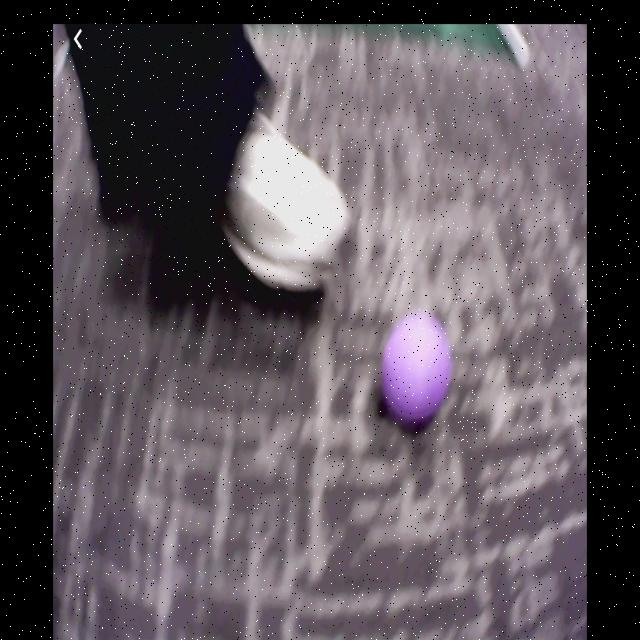ball: (385, 319, 451, 418)
